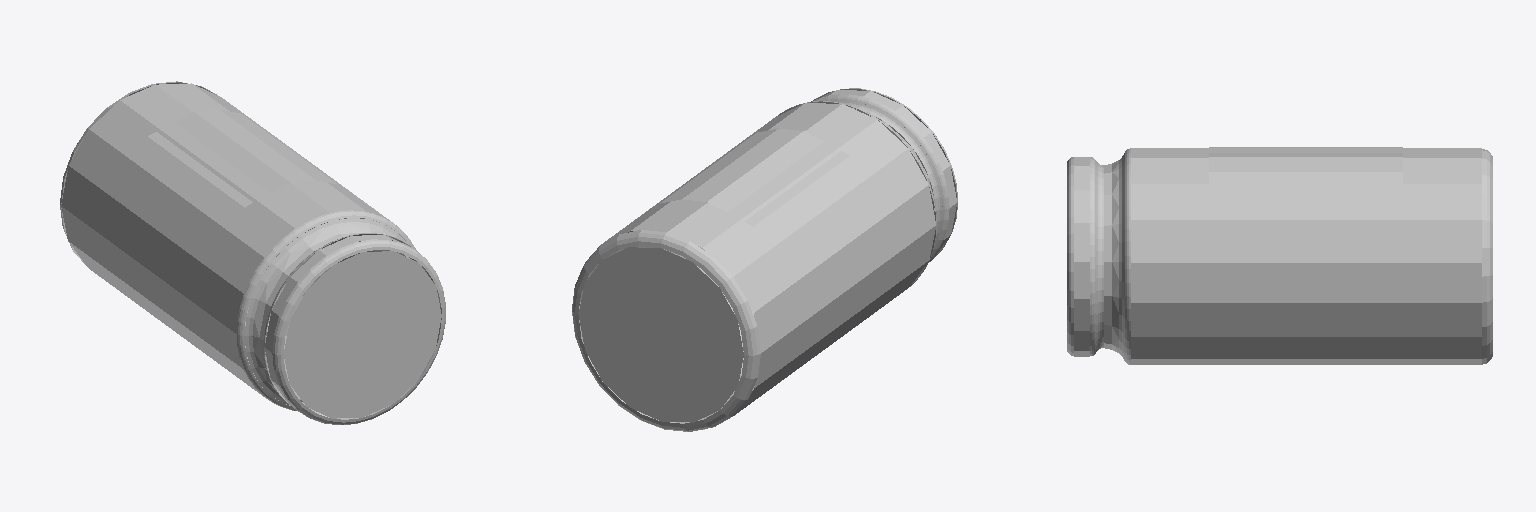
The picture shows the model from 3 angles: view 1: azimuth 30°, elevation 25°; view 2: azimuth 150°, elevation 25°; view 3: azimuth 270°, elevation 25°; orthographic projection.
Visible parts, largest first — view 1: ShapeIndexedFaceSet_ShapeIndexedFaceSet.001, ShapeIndexedFaceSet.004_ShapeIndexedFaceSet.005, ShapeIndexedFaceSet.003_ShapeIndexedFaceSet.004, ShapeIndexedFaceSet.005_ShapeIndexedFaceSet, ShapeIndexedFaceSet.001_ShapeIndexedFaceSet.002; view 2: ShapeIndexedFaceSet_ShapeIndexedFaceSet.001, ShapeIndexedFaceSet.002_ShapeIndexedFaceSet.003, ShapeIndexedFaceSet.005_ShapeIndexedFaceSet, ShapeIndexedFaceSet.001_ShapeIndexedFaceSet.002, ShapeIndexedFaceSet.003_ShapeIndexedFaceSet.004; view 3: ShapeIndexedFaceSet_ShapeIndexedFaceSet.001, ShapeIndexedFaceSet.003_ShapeIndexedFaceSet.004, ShapeIndexedFaceSet.005_ShapeIndexedFaceSet, ShapeIndexedFaceSet.001_ShapeIndexedFaceSet.002.
Part boxes in pixels (x1,y1,x2,y2): ShapeIndexedFaceSet_ShapeIndexedFaceSet.001: (61, 83, 409, 405); ShapeIndexedFaceSet.004_ShapeIndexedFaceSet.005: (284, 251, 441, 418); ShapeIndexedFaceSet.003_ShapeIndexedFaceSet.004: (237, 210, 445, 424); ShapeIndexedFaceSet.005_ShapeIndexedFaceSet: (148, 109, 336, 207); ShapeIndexedFaceSet.001_ShapeIndexedFaceSet.002: (60, 81, 216, 263); ShapeIndexedFaceSet_ShapeIndexedFaceSet.001: (579, 103, 935, 429); ShapeIndexedFaceSet.002_ShapeIndexedFaceSet.003: (578, 247, 743, 422); ShapeIndexedFaceSet.005_ShapeIndexedFaceSet: (660, 128, 849, 226); ShapeIndexedFaceSet.001_ShapeIndexedFaceSet.002: (572, 230, 760, 431); ShapeIndexedFaceSet.003_ShapeIndexedFaceSet.004: (778, 88, 957, 286); ShapeIndexedFaceSet_ShapeIndexedFaceSet.001: (1131, 148, 1481, 364); ShapeIndexedFaceSet.003_ShapeIndexedFaceSet.004: (1067, 148, 1130, 364); ShapeIndexedFaceSet.005_ShapeIndexedFaceSet: (1209, 147, 1402, 192); ShapeIndexedFaceSet.001_ShapeIndexedFaceSet.002: (1482, 149, 1492, 364).
Bounding box in the file's own units: 5.59 × 5.63 × 11.